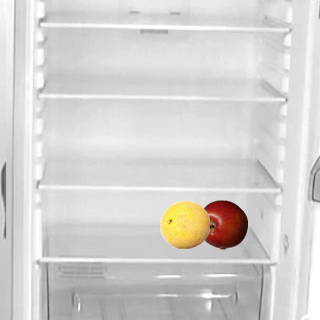Apple Braeburn: (197, 199, 247, 249)
Cantaloupe 1: (159, 199, 209, 249)
